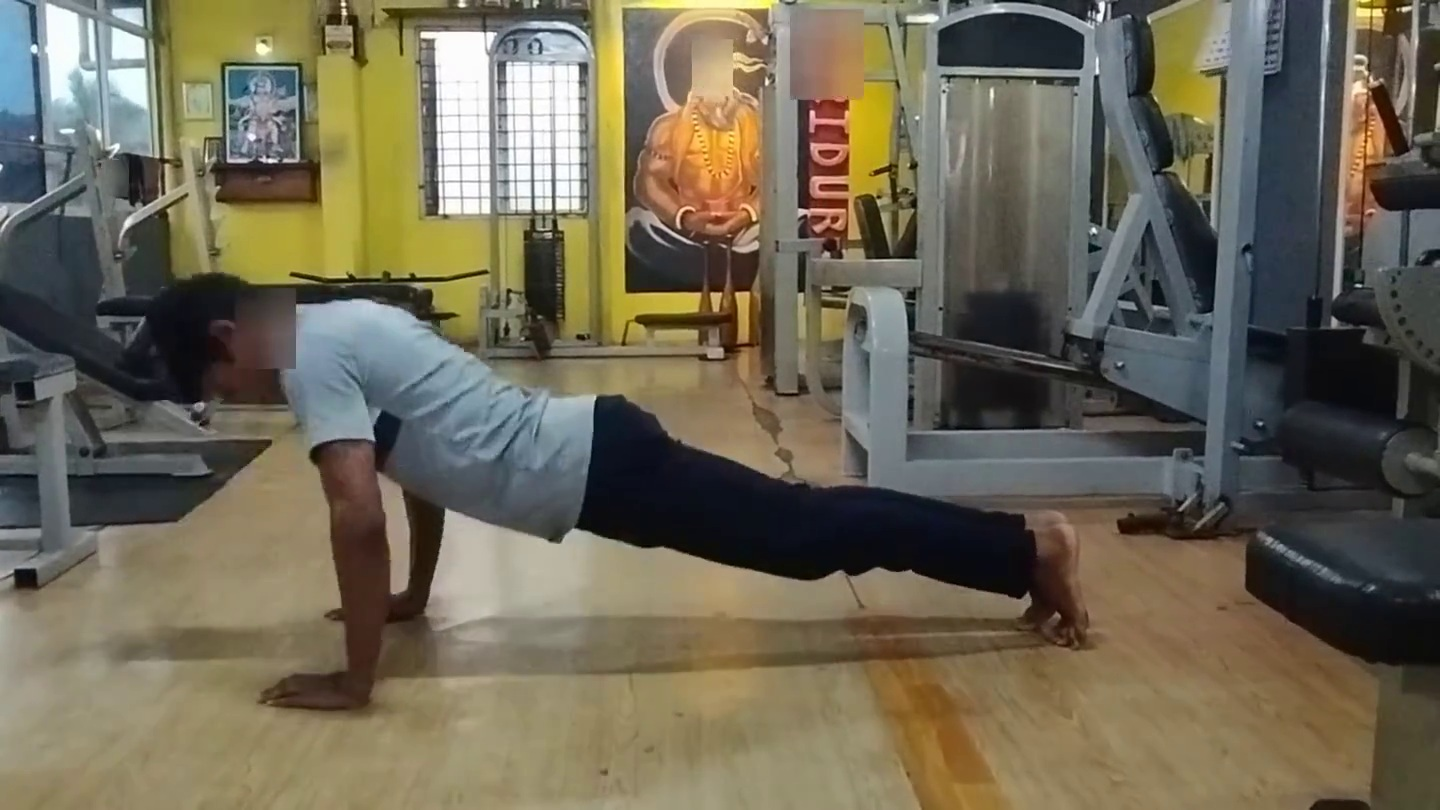push_up_correct: (136, 261, 1165, 782)
